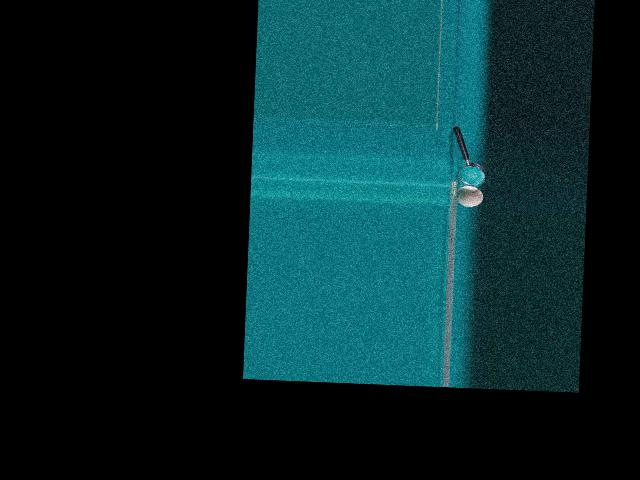egg: (455, 185, 483, 207)
